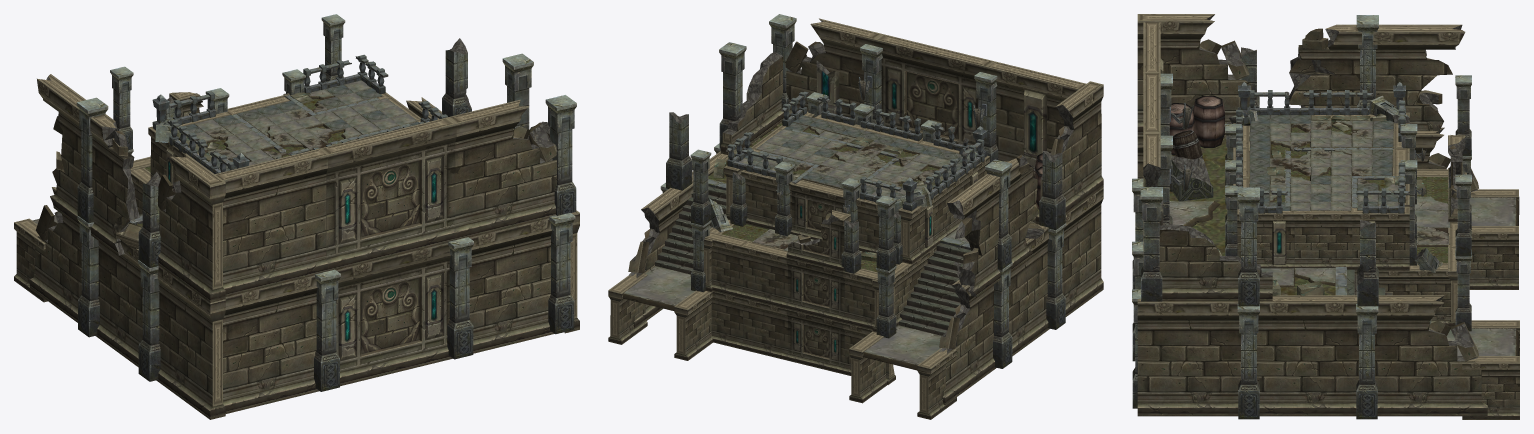
Rendered from Cell2LD-RU.fbx.
3 renders of one model, left to right at view 1: azimuth 30°, elevation 25°; view 2: azimuth 150°, elevation 25°; view 3: azimuth 270°, elevation 25°, orthographic. The views are drawn at different scales.
Visible parts, largest first — view 1: Cell2LD_RU; view 2: Cell2LD_RU; view 3: Cell2LD_RU.
Part boxes in pixels (<box>): Cell2LD_RU: <box>14,14,579,419</box>; Cell2LD_RU: <box>608,14,1103,419</box>; Cell2LD_RU: <box>1132,14,1519,419</box>.
Size of the model in its own units: 35.02 by 20.26 by 30.72.
